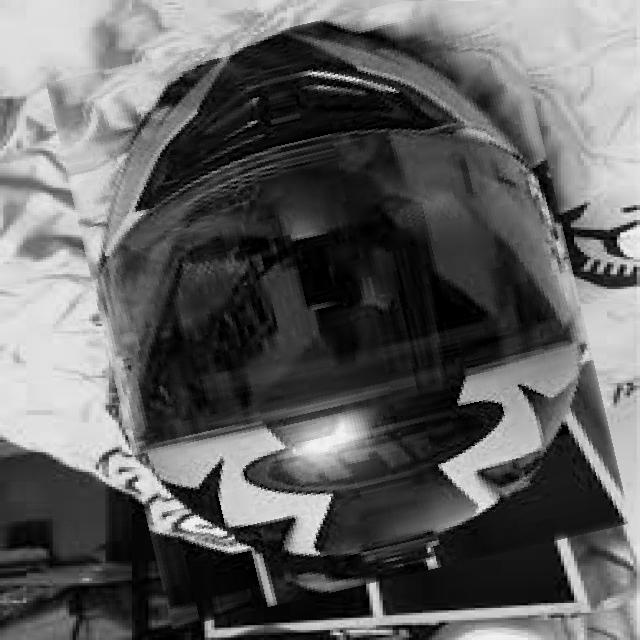helmet: (75, 0, 602, 606)
